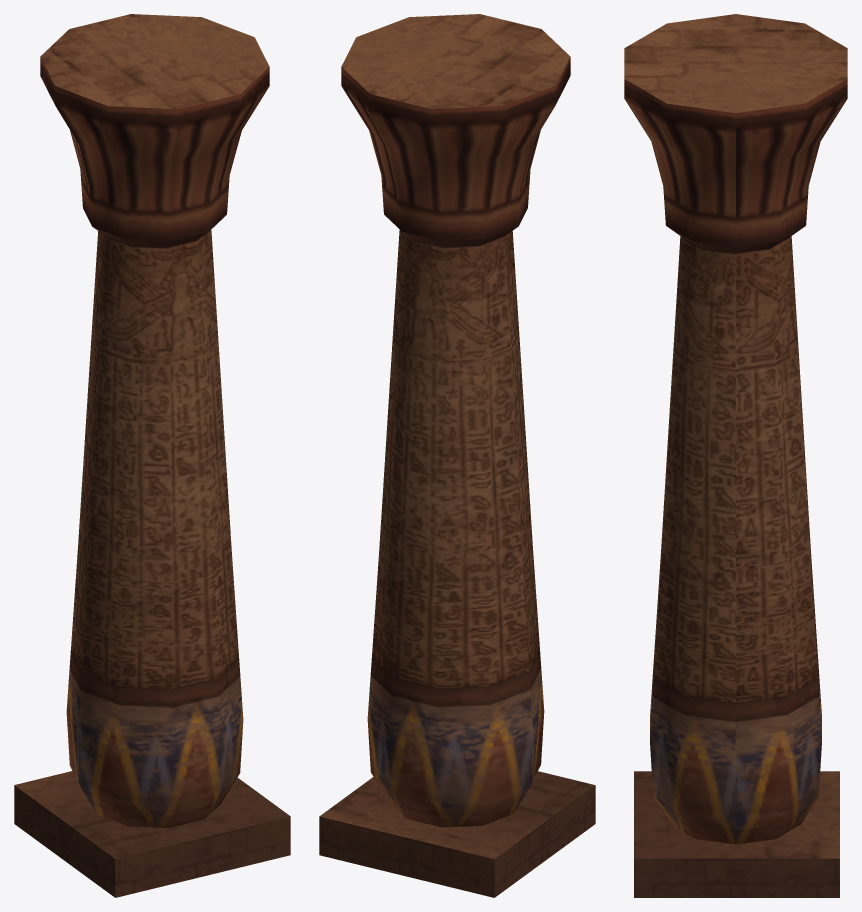
The model's file is Pillar_01.fbx.
3 renders of one model, left to right at view 1: azimuth 30°, elevation 25°; view 2: azimuth 150°, elevation 25°; view 3: azimuth 270°, elevation 25°, orthographic.
Parts seen in each view (by area): view 1: Pillar_01; view 2: Pillar_01; view 3: Pillar_01.
Part boxes in pixels (left/top/right/bottom): Pillar_01: left=14, top=14, right=290, bottom=897; Pillar_01: left=319, top=14, right=595, bottom=897; Pillar_01: left=624, top=14, right=847, bottom=897.
Size of the model in its own units: 38.47 by 143 by 36.59.
1 material, 1 textured.
